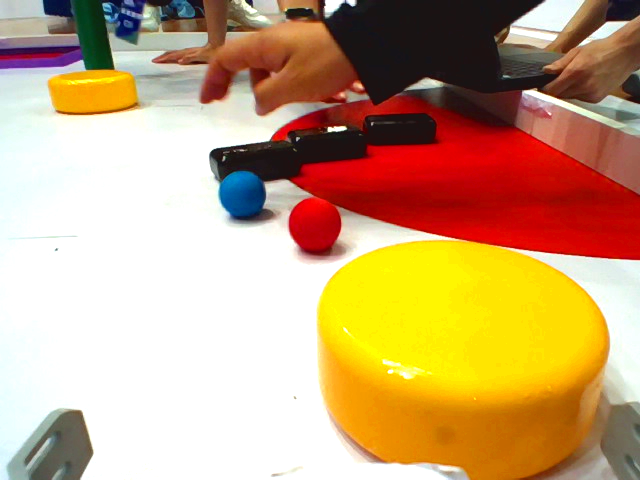black: (205, 136, 318, 191), (357, 108, 450, 157), (280, 121, 372, 161)
blue: (221, 167, 269, 220)
kuang: (1, 35, 85, 73)
red: (282, 196, 346, 252)
yellow: (306, 235, 611, 476), (30, 65, 159, 118)
zhuzi: (63, 1, 123, 83)
